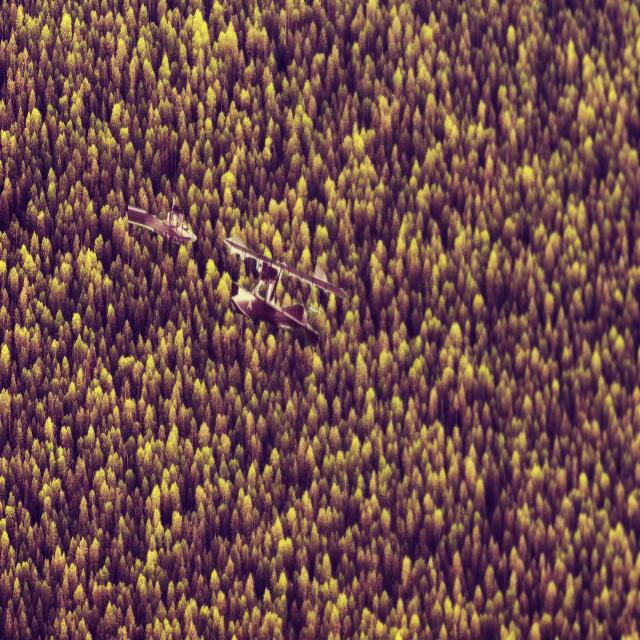airplane: (222, 235, 349, 347), (126, 203, 197, 247)
